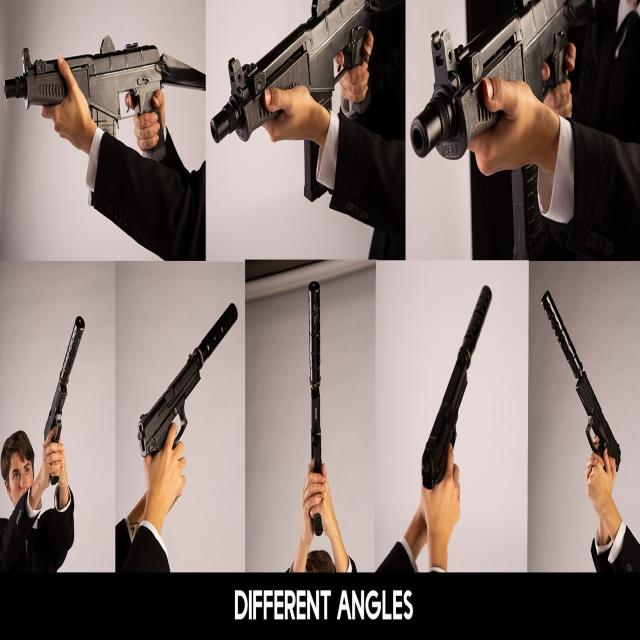HandGun: (138, 298, 240, 506), (538, 287, 626, 498), (417, 281, 498, 502), (43, 314, 86, 493), (307, 279, 328, 536)
SMG: (408, 0, 583, 276), (208, 0, 374, 209), (5, 37, 206, 140)
